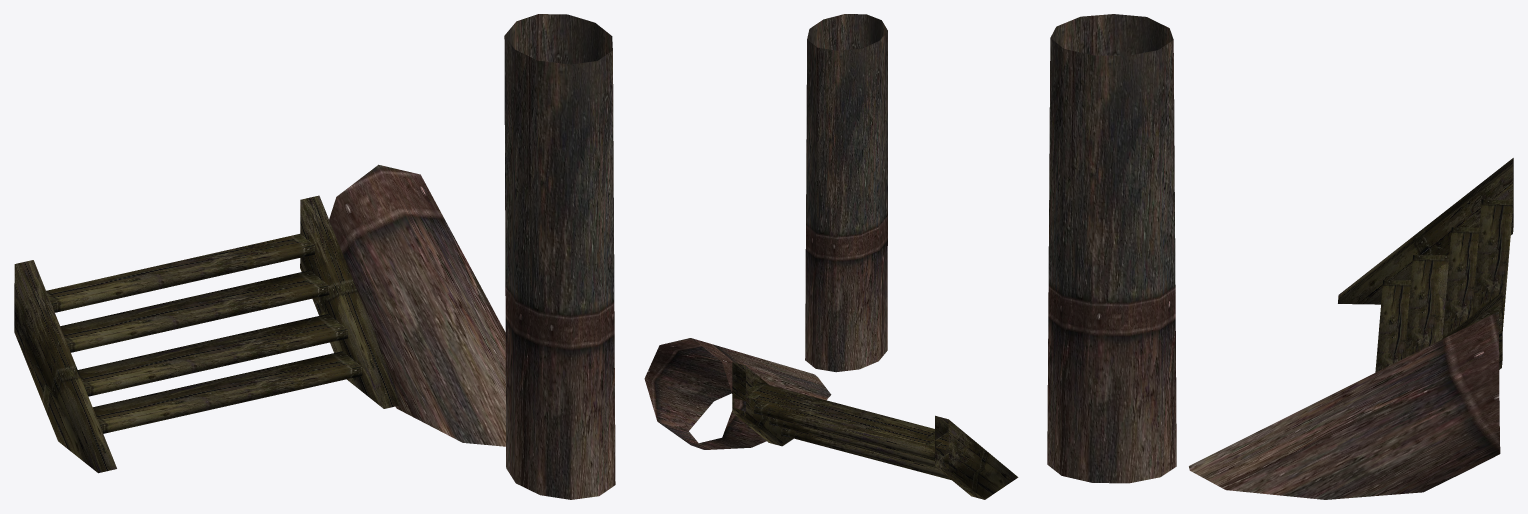
File: NW_SHIP_STAIRS_AND_MASTS_01.glb
The picture shows the model from 3 angles, left to right: view 1: azimuth 30°, elevation 25°; view 2: azimuth 150°, elevation 25°; view 3: azimuth 270°, elevation 25°; orthographic projection. The views are drawn at different scales.
Parts seen in each view (by area): view 1: Mesh; view 2: Mesh; view 3: Mesh.
Boxes of the visible parts, x1=… form: Mesh: x1=14, y1=14, x2=615, y2=499; Mesh: x1=644, y1=14, x2=1018, y2=499; Mesh: x1=1047, y1=14, x2=1513, y2=499.
Bounding box in the file's own units: 4.7 × 4.63 × 4.55.
3 materials, 3 textured.
